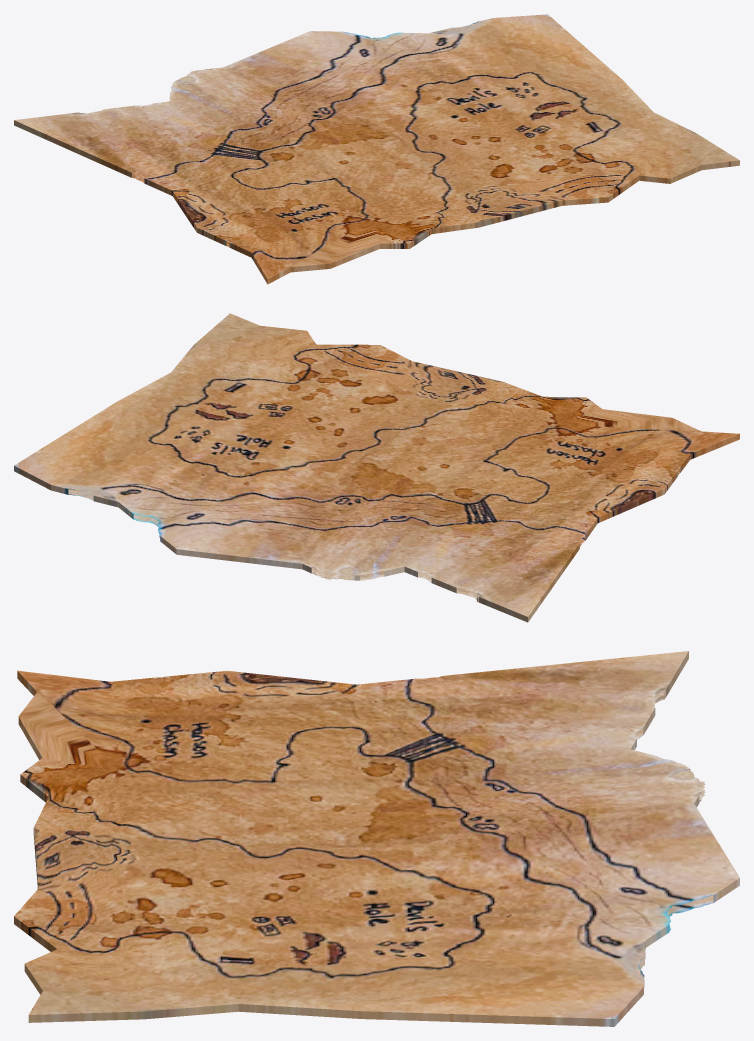
The model's file is Piece4.fbx.
The picture shows the model from 3 angles, top to bottom: view 1: azimuth 30°, elevation 25°; view 2: azimuth 150°, elevation 25°; view 3: azimuth 270°, elevation 25°; orthographic projection. The views are drawn at different scales.
Parts seen in each view (by area): view 1: map_puzzle2; view 2: map_puzzle2; view 3: map_puzzle2.
Part boxes in pixels (box(x1,y1,x2,y2)): map_puzzle2: box(14, 14, 739, 284); map_puzzle2: box(14, 313, 739, 622); map_puzzle2: box(14, 651, 739, 1026).
Bounding box in the file's own units: 2.3 × 0.0228 × 1.92.
